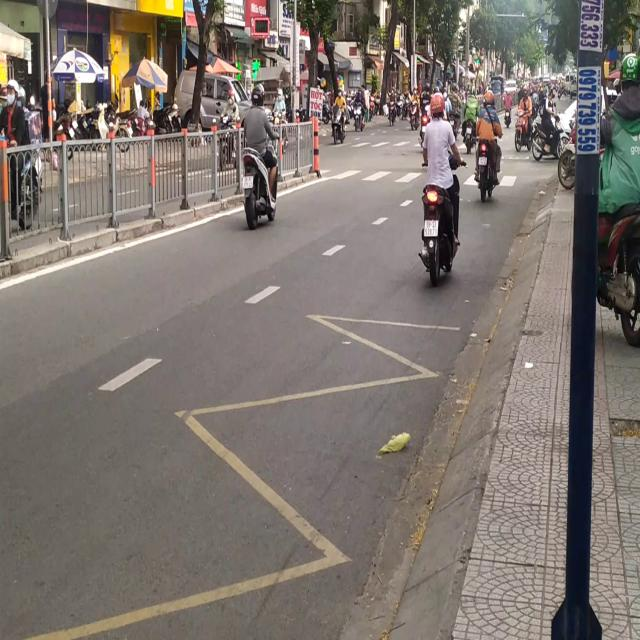bien_trang: (424, 217, 437, 236)
